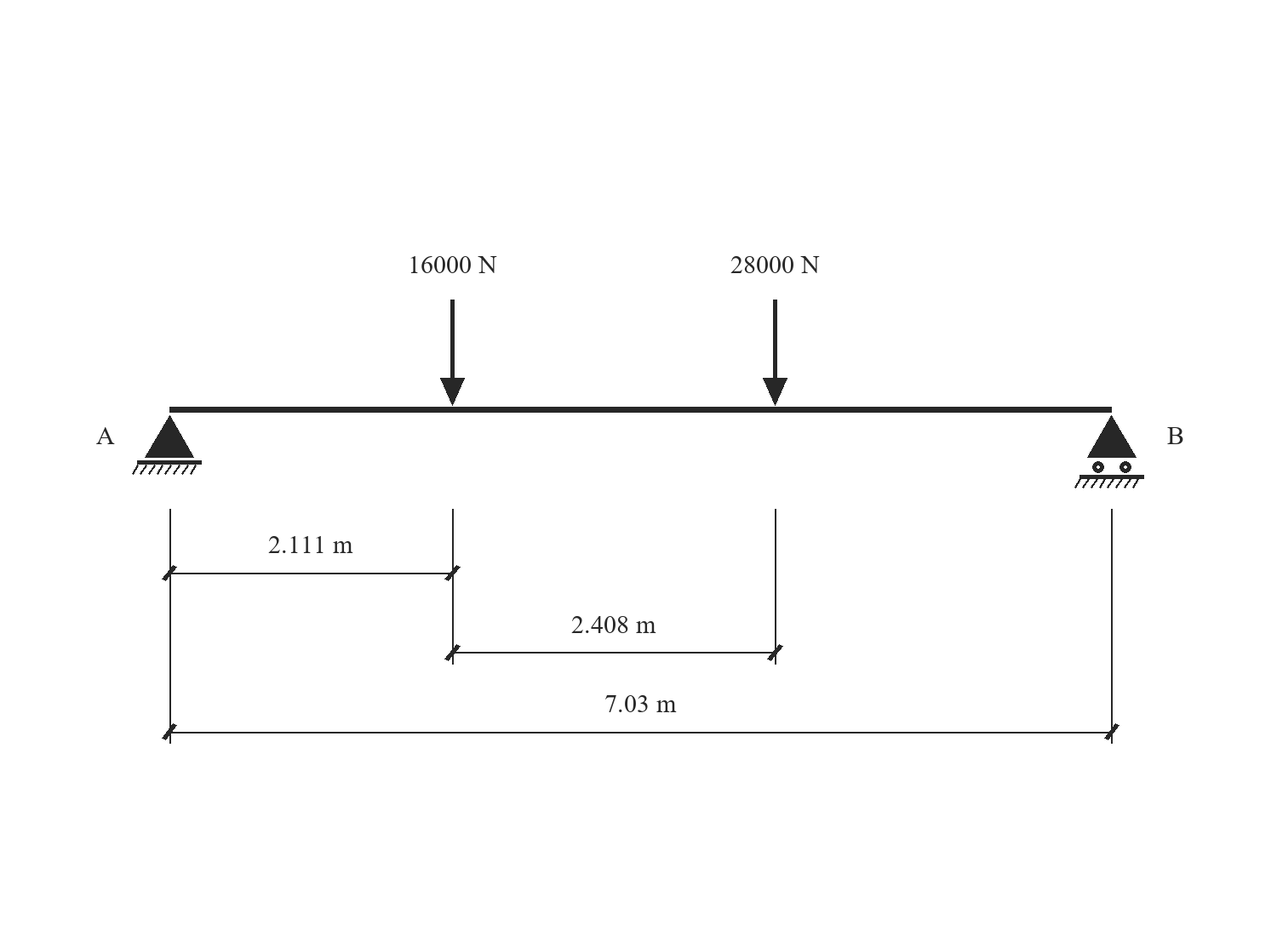pin_support: (132, 415, 202, 475)
point_load: (440, 300, 465, 406), (763, 300, 787, 406)
roller_support: (1074, 415, 1144, 488)
